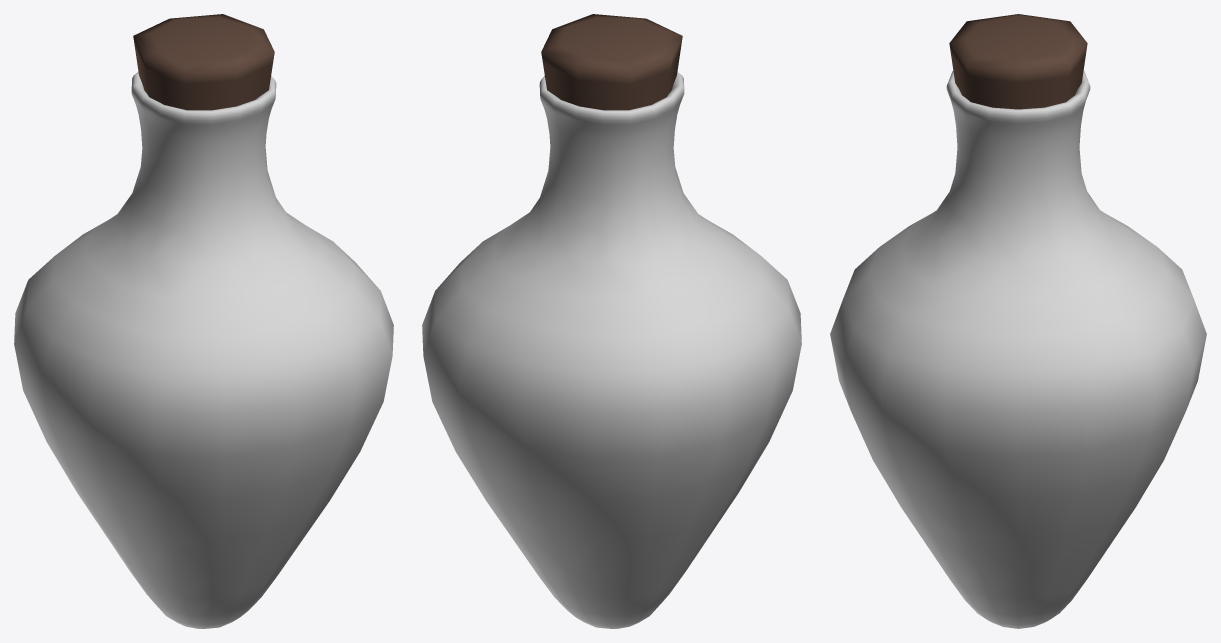
The model's file is potion4-empty-ac51be57ee.glb.
3 views of the same model, side by side, from view 1: azimuth 30°, elevation 25°; view 2: azimuth 150°, elevation 25°; view 3: azimuth 270°, elevation 25° (orthographic).
Visible parts, largest first — view 1: Potion4_Empty.obj; view 2: Potion4_Empty.obj; view 3: Potion4_Empty.obj.
Part boxes in pixels (<box>): Potion4_Empty.obj: <box>14,14,393,628</box>; Potion4_Empty.obj: <box>422,14,801,628</box>; Potion4_Empty.obj: <box>830,14,1206,628</box>.
Size of the model in its own units: 0.7187 by 1.24 by 0.7187.
